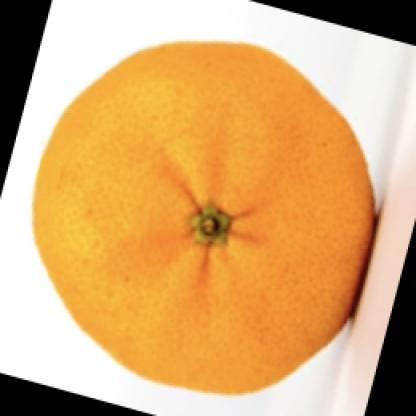orange: (27, 37, 380, 392)
